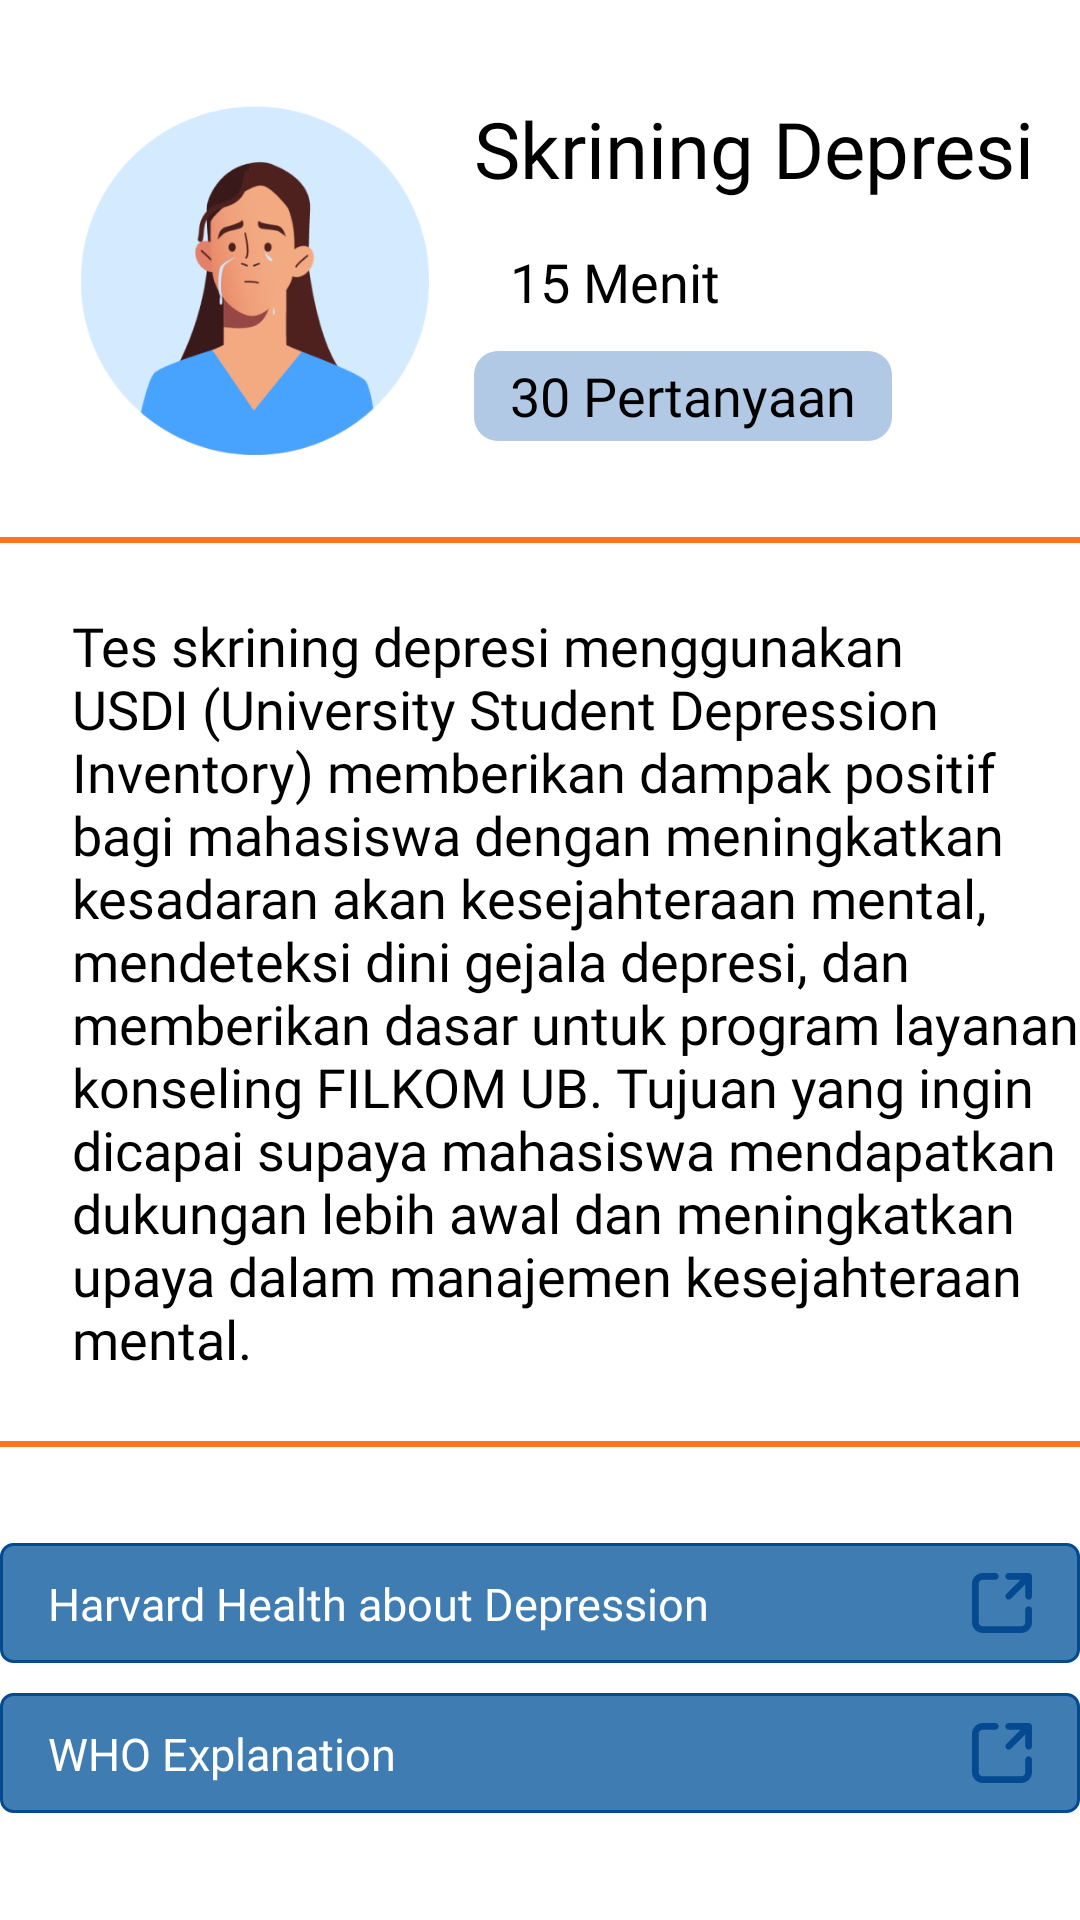

Icons on this 1080×1920 Android screen, each with the point to tap as point (x, y):
btnweb: point (1002, 1603), point (1002, 1753)
picscreening: point (255, 281)
